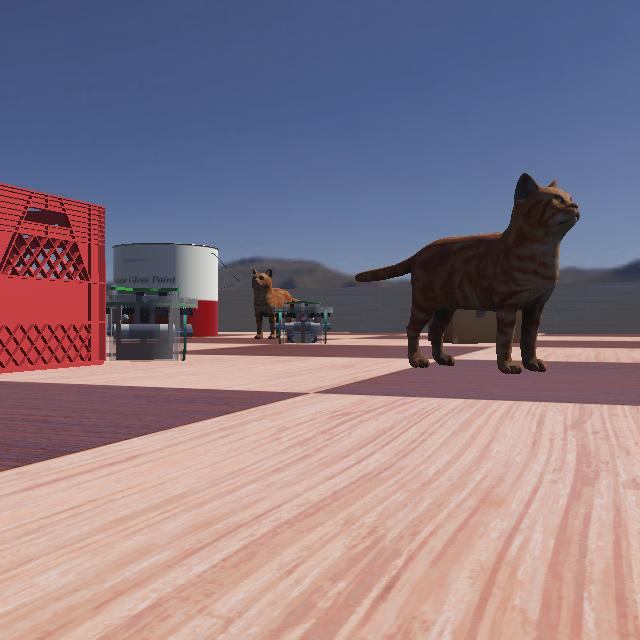cat: (352, 164, 592, 376), (352, 164, 592, 376)
plastic-crate: (0, 176, 120, 377)
